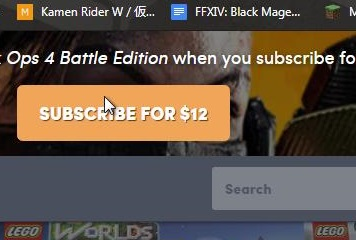cursor: (102, 94, 116, 115)
